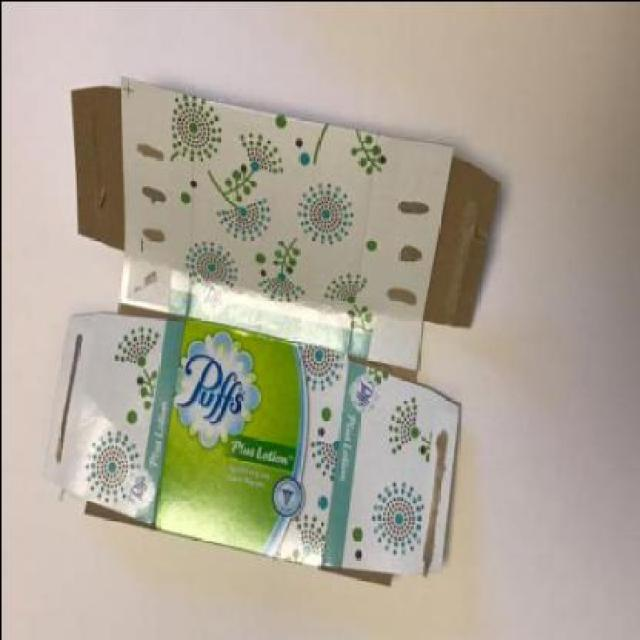CARDBOARD: (52, 73, 494, 584), (68, 73, 494, 384), (41, 308, 457, 586)
